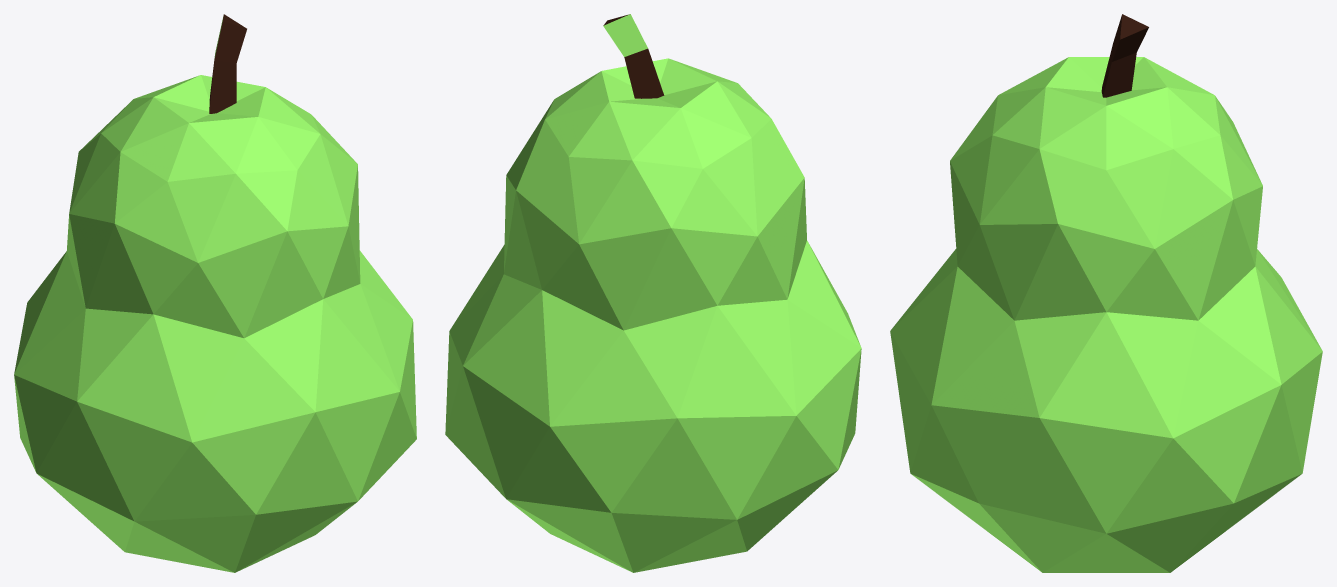
The model's file is pear.fbx.
3 views of the same model, side by side, from view 1: azimuth 30°, elevation 25°; view 2: azimuth 150°, elevation 25°; view 3: azimuth 270°, elevation 25° (orthographic). The views are drawn at different scales.
Parts seen in each view (by area): view 1: pear; view 2: pear; view 3: pear.
Boxes of the visible parts, x1,y1,x2,y2 form: pear: [14, 14, 416, 572]; pear: [445, 14, 861, 572]; pear: [890, 14, 1322, 572].
Bounding box in the file's own units: 137 × 193 × 140.
